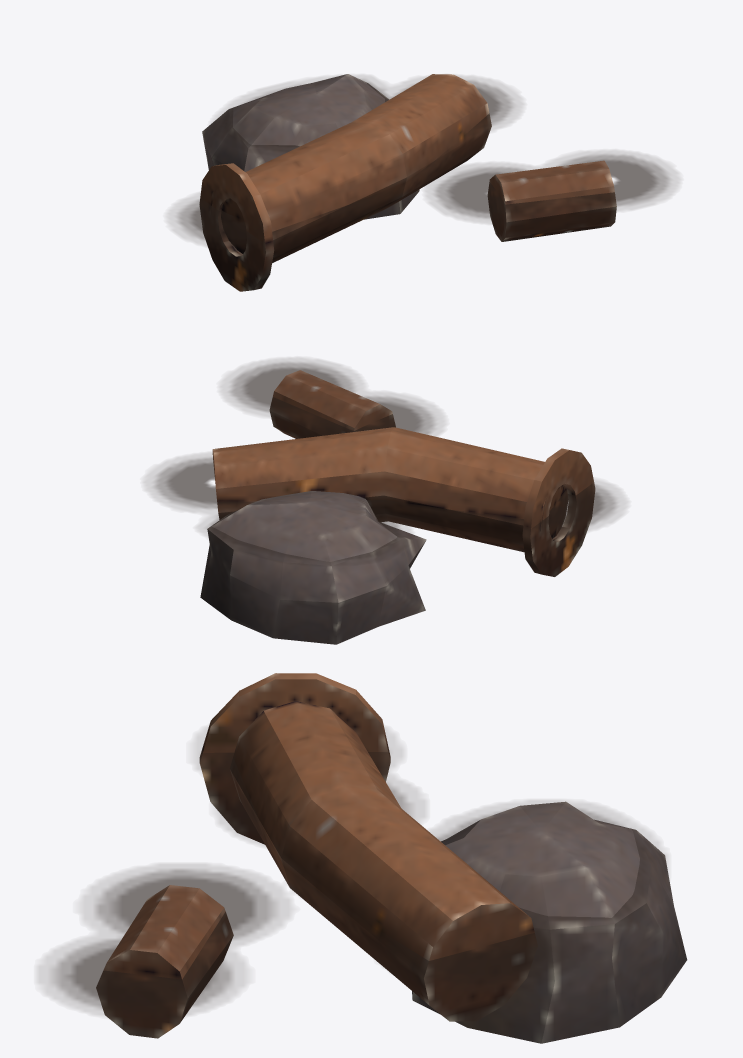
3 views of the same model, one above another, from view 1: azimuth 30°, elevation 25°; view 2: azimuth 150°, elevation 25°; view 3: azimuth 270°, elevation 25° (orthographic). The views are drawn at different scales.
Visible parts, largest first — view 1: Pipe, GroundShade, PipeStone; view 2: Pipe, PipeStone, GroundShade; view 3: Pipe, PipeStone, GroundShade.
Boxes of the visible parts, box(x1,y1,x2,y2) form: Pipe: box(199, 74, 616, 291); GroundShade: box(169, 76, 678, 248); PipeStone: box(202, 74, 419, 219); Pipe: box(212, 370, 595, 576); PipeStone: box(200, 491, 426, 644); GroundShade: box(144, 358, 625, 564); Pipe: box(96, 673, 537, 1038); PipeStone: box(412, 801, 687, 1043); GroundShade: box(39, 730, 665, 1017).
Bounding box in the file's own units: 12.8 × 3.25 × 11.66.
Materials: 3 (3 with a texture image).
